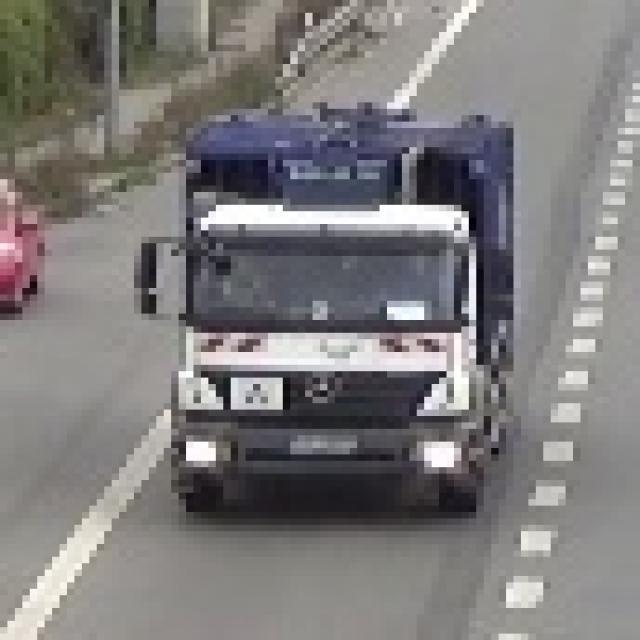Truck: (134, 102, 528, 500)
